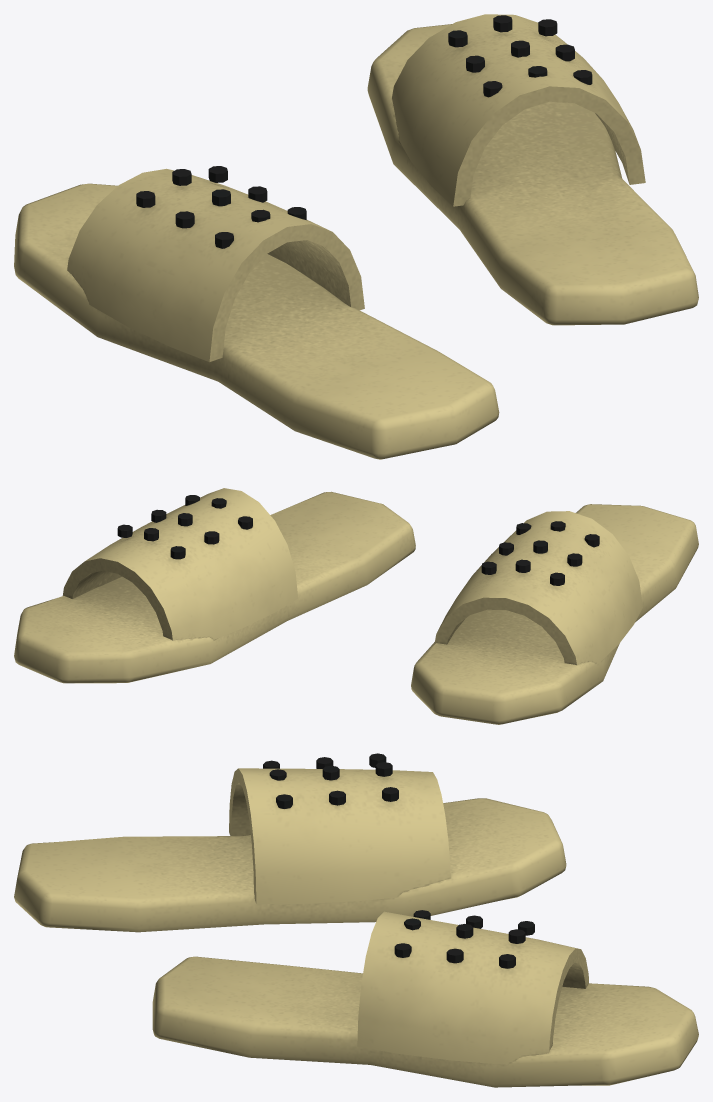
Rendered from CTCC_PROP_HoneycombSlippers.fbx.
3 renders of one model, top to bottom at view 1: azimuth 30°, elevation 25°; view 2: azimuth 150°, elevation 25°; view 3: azimuth 270°, elevation 25°, orthographic. The views are drawn at different scales.
Parts seen in each view (by area): view 1: CTCC_PROP_HoneycombSlippers; view 2: CTCC_PROP_HoneycombSlippers; view 3: CTCC_PROP_HoneycombSlippers.
Part boxes in pixels (x1,y1,x2,y2): CTCC_PROP_HoneycombSlippers: [14, 14, 698, 459]; CTCC_PROP_HoneycombSlippers: [14, 488, 698, 724]; CTCC_PROP_HoneycombSlippers: [14, 753, 698, 1087].
Size of the model in its own units: 0.2759 by 0.059 by 0.3059.
